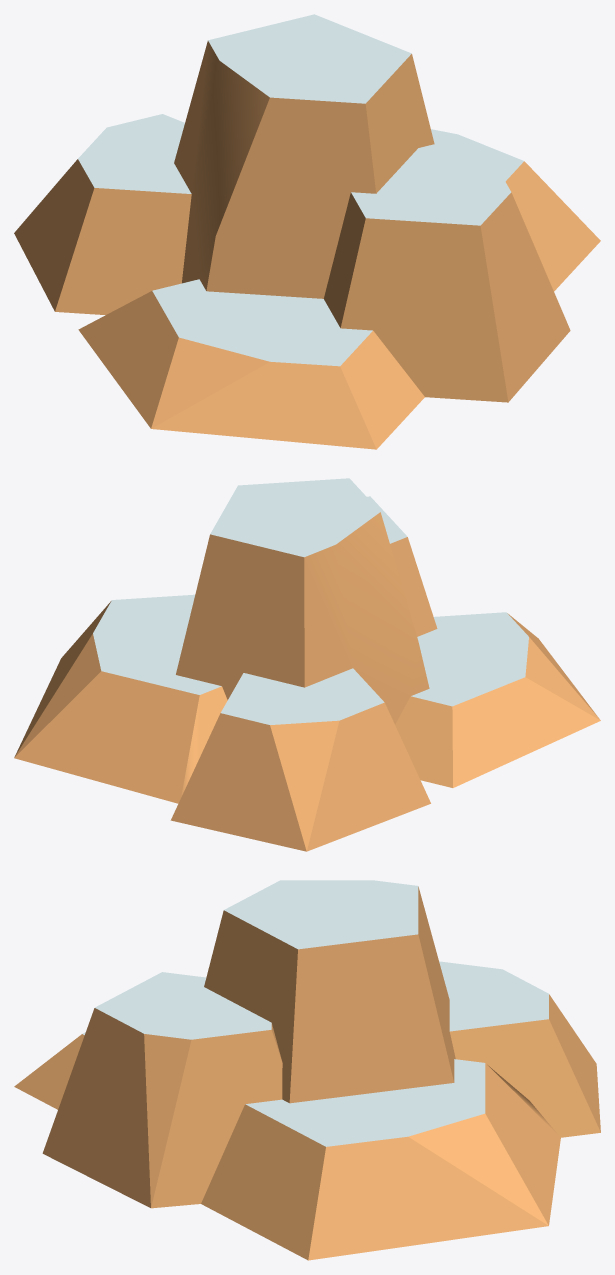
Rendered from snowDetailDirtLarge.fbx.
3 renders of one model, top to bottom at view 1: azimuth 30°, elevation 25°; view 2: azimuth 150°, elevation 25°; view 3: azimuth 270°, elevation 25°, orthographic. The views are drawn at different scales.
Visible parts, largest first — view 1: snow_detail_dirtLarge; view 2: snow_detail_dirtLarge; view 3: snow_detail_dirtLarge.
Boxes of the visible parts, x1,y1,x2,y2 form: snow_detail_dirtLarge: (14, 14, 600, 449); snow_detail_dirtLarge: (14, 478, 600, 851); snow_detail_dirtLarge: (14, 880, 600, 1260).
Size of the model in its own units: 38.28 by 16.48 by 39.37.
